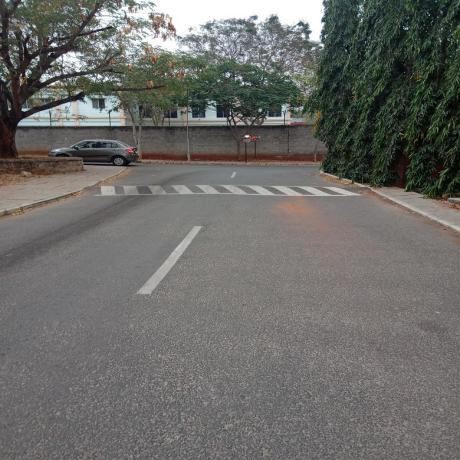Speed Bump: (88, 186, 366, 196)
